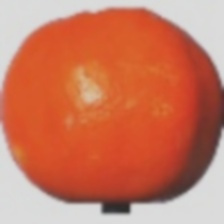tangerine: (51, 26, 200, 208)
